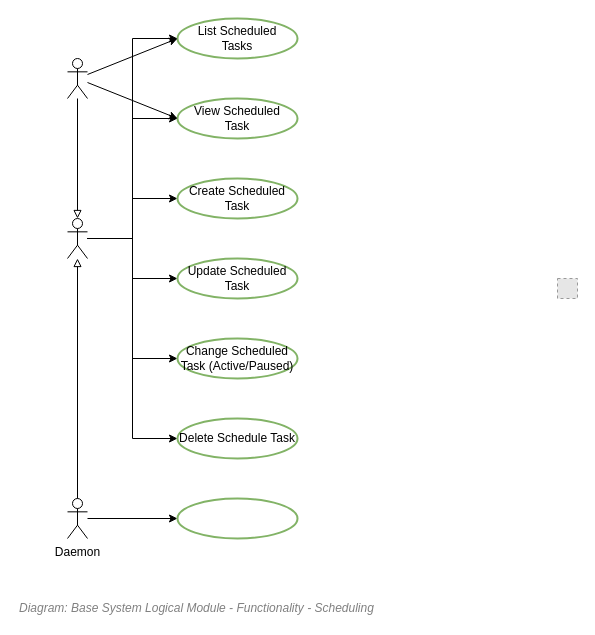
This 595x635 diagram has some shape labels left out. Grey dashed boxes stand in for pictures. Each missing label, with the box of its shape:
Run Task on Schedule: (176, 497, 298, 539)
Sys Admin: (66, 218, 88, 258)
User: (66, 58, 88, 98)
